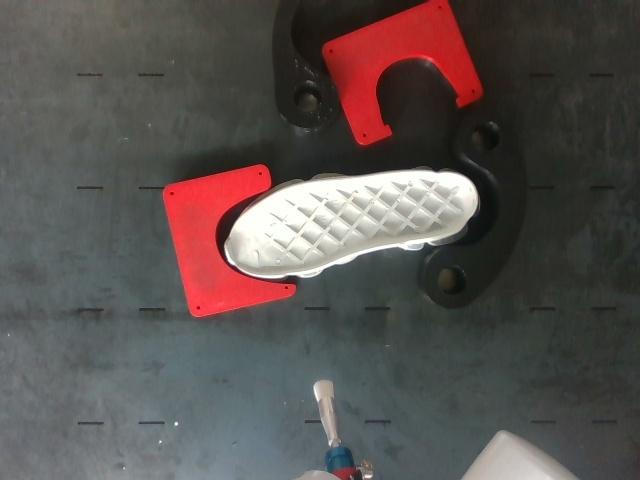shoes: (227, 172, 476, 275)
